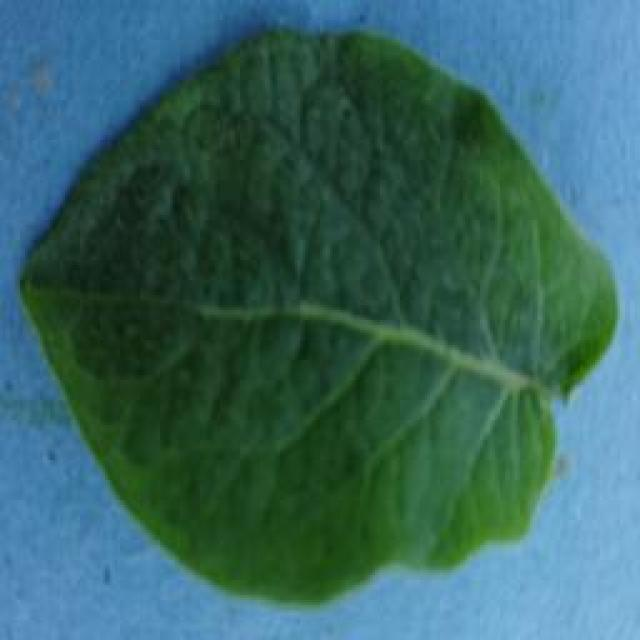Potato_Healthy: (19, 27, 614, 606)
